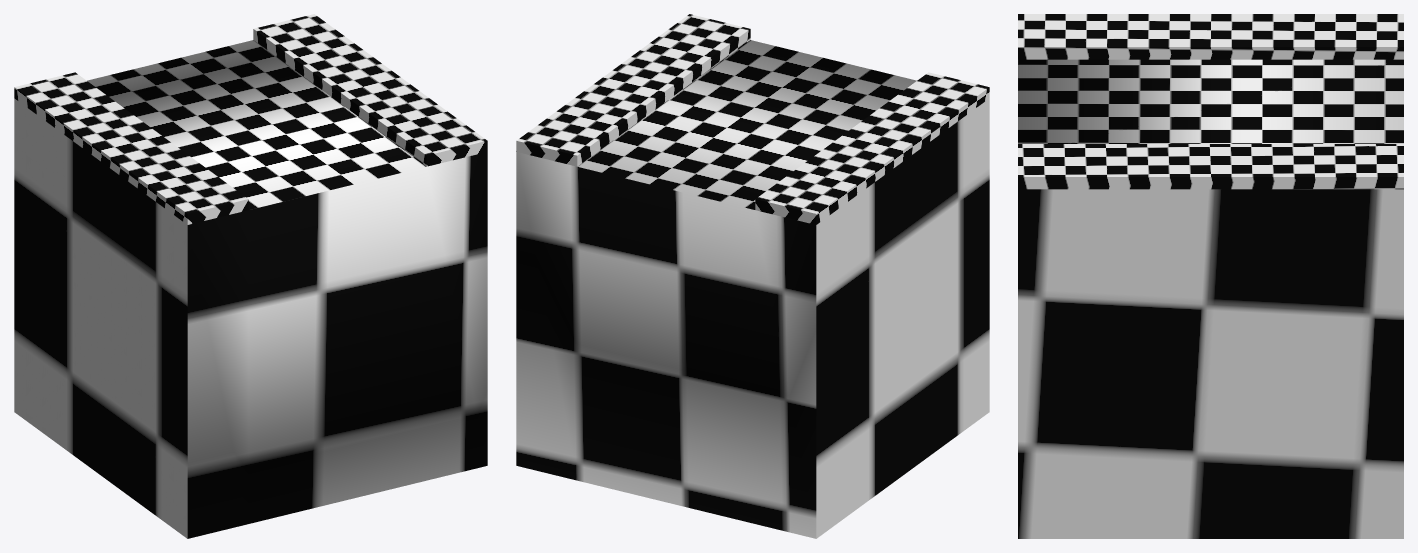
The model's file is road.obj.
3 renders of one model, left to right at view 1: azimuth 30°, elevation 25°; view 2: azimuth 150°, elevation 25°; view 3: azimuth 270°, elevation 25°, orthographic. The views are drawn at different scales.
Parts seen in each view (by area): view 1: road; view 2: road; view 3: road.
Boxes of the visible parts, x1,y1,x2,y2 form: road: [14, 14, 487, 538]; road: [516, 14, 989, 538]; road: [1018, 14, 1403, 538].
Size of the model in its own units: 2 by 2.07 by 2.
1 material, 1 textured.
